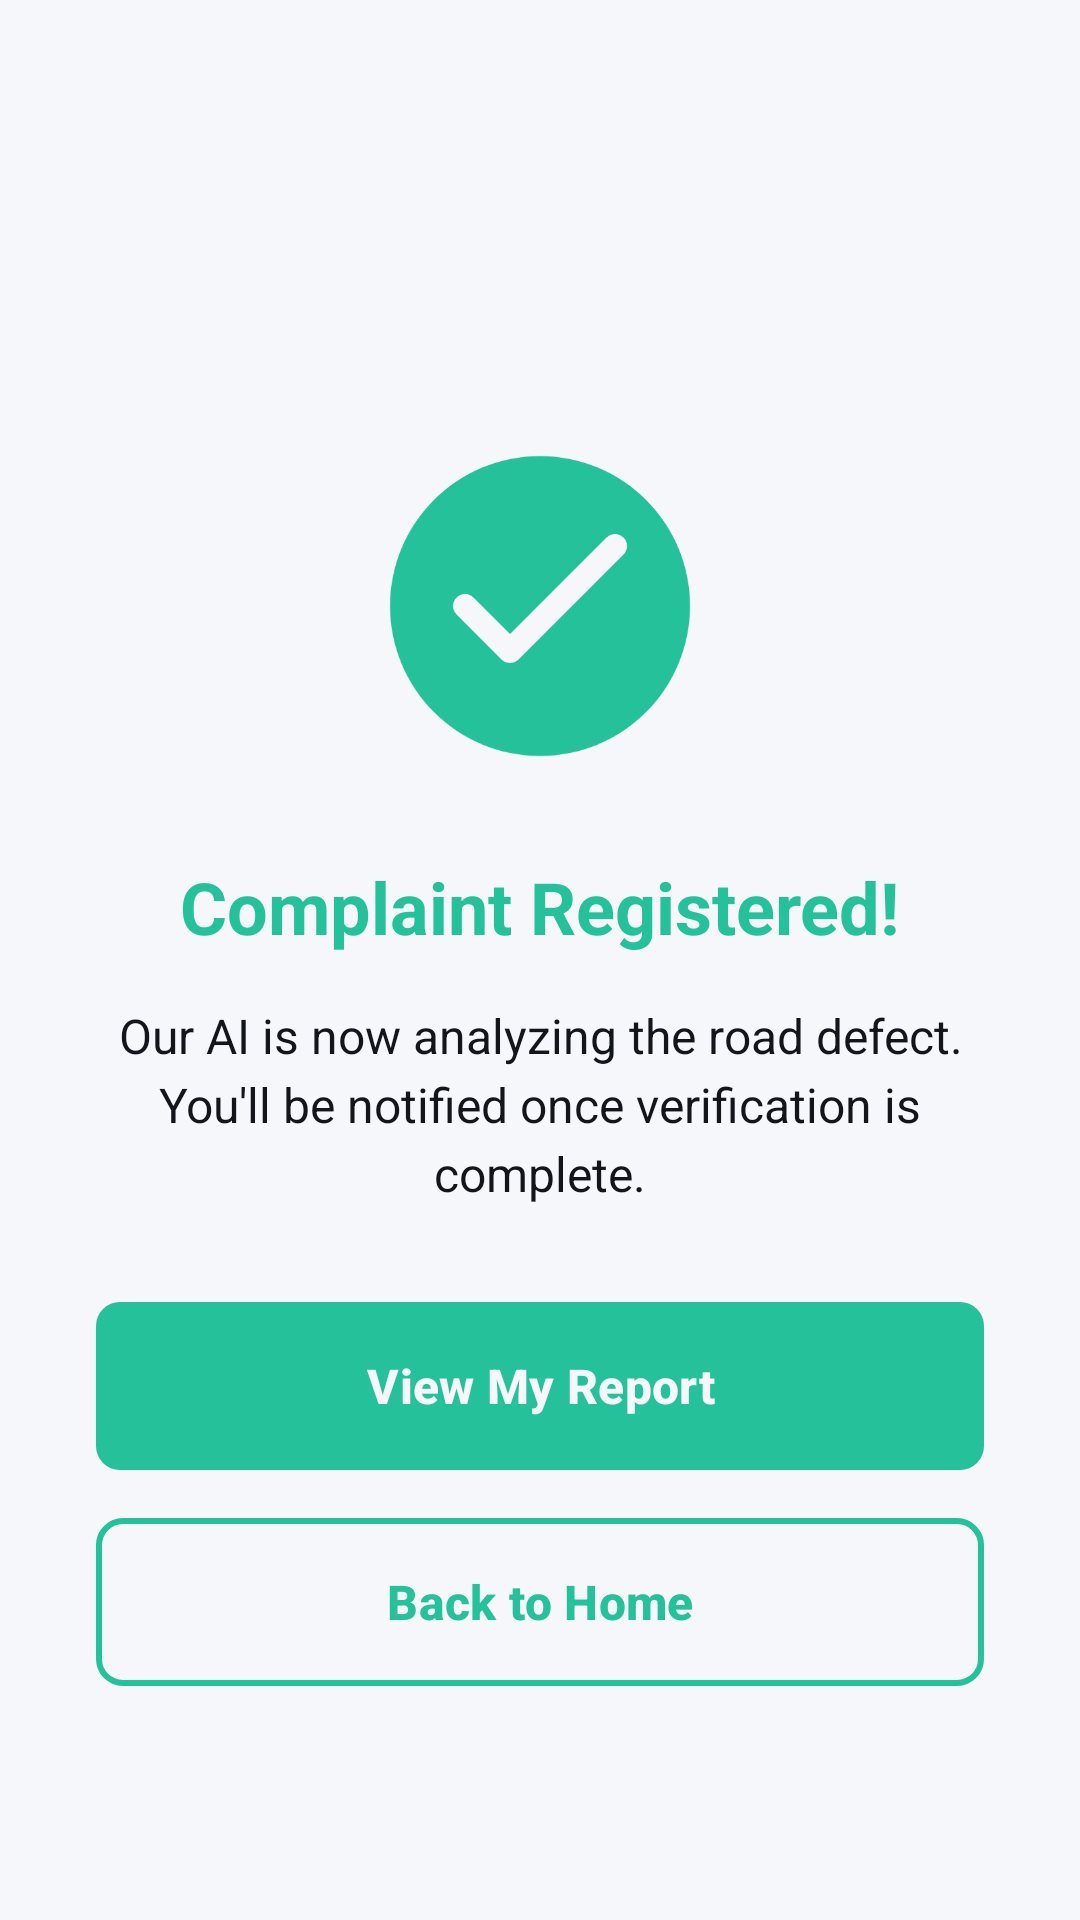

Named icons in this screenshot (1080px x 1920px) and their centers, [x,y]:
Success: [540,606]
